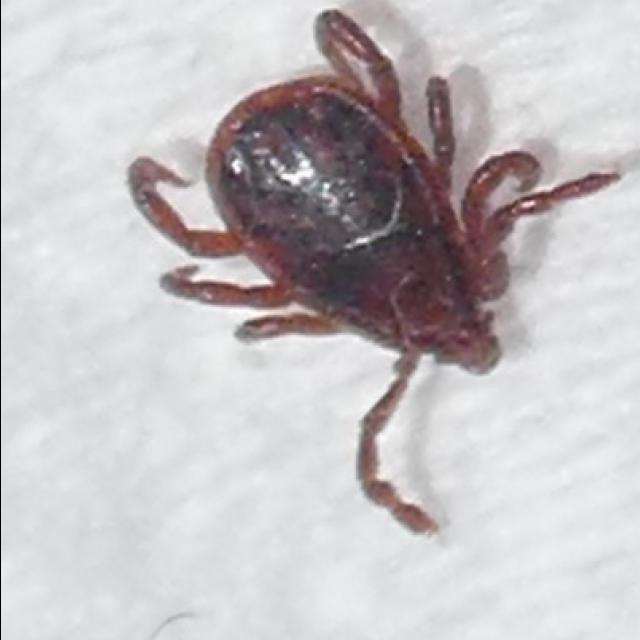Rhipicephalus Sanguineus-M: (127, 10, 619, 538)
